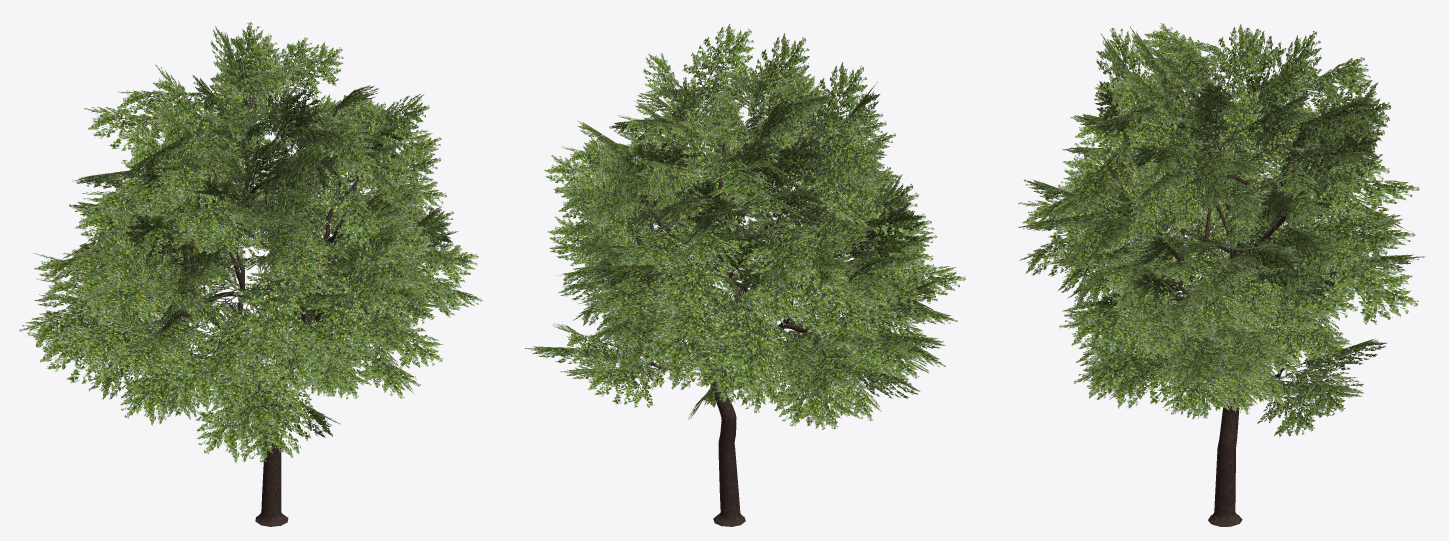
File: testeArvore (4).glb
The picture shows the model from 3 angles, left to right: view 1: azimuth 30°, elevation 25°; view 2: azimuth 150°, elevation 25°; view 3: azimuth 270°, elevation 25°; orthographic projection. The views are drawn at different scales.
Parts seen in each view (by area): view 1: polySurface26, polySurface254.001; view 2: polySurface26, polySurface254.001; view 3: polySurface26, polySurface254.001.
Part boxes in pixels (x1,y1,x2,y2): polySurface26: (19, 22, 482, 463); polySurface254.001: (146, 139, 362, 526); polySurface26: (525, 23, 965, 429); polySurface254.001: (632, 115, 851, 526); polySurface26: (1018, 23, 1425, 437); polySurface254.001: (1103, 100, 1295, 526).
Bounding box in the file's own units: 0.0996 × 0.1068 × 0.0845.
2 materials, 2 textured.
